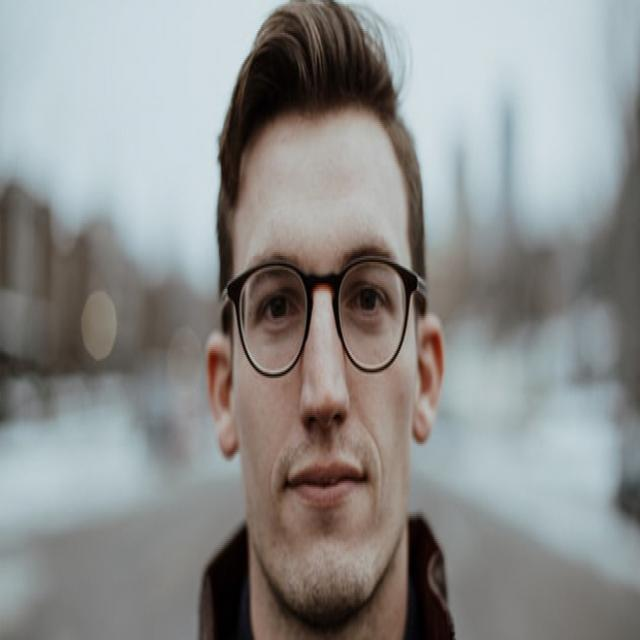Glasses: (218, 251, 428, 382)
